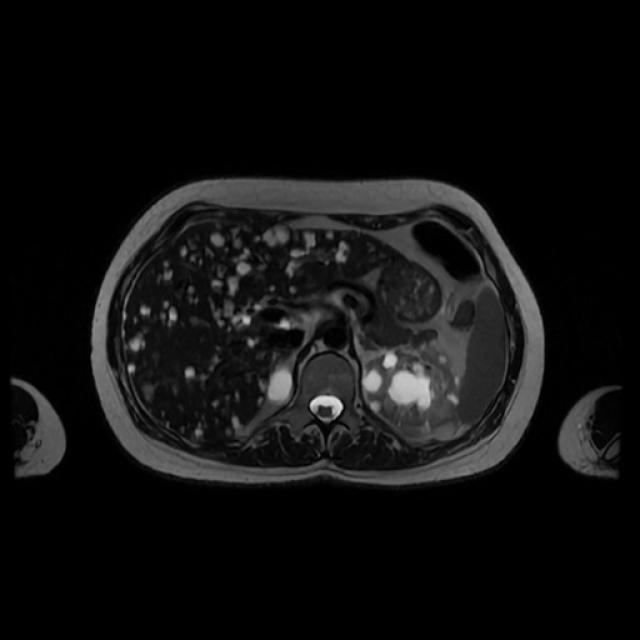sag: (266, 369, 292, 406)
sol: (360, 342, 460, 440)
